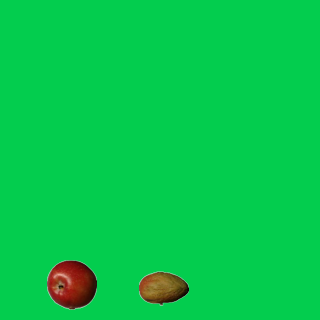Apple Braeburn: (46, 259, 96, 309)
Papaya: (138, 263, 188, 313)
